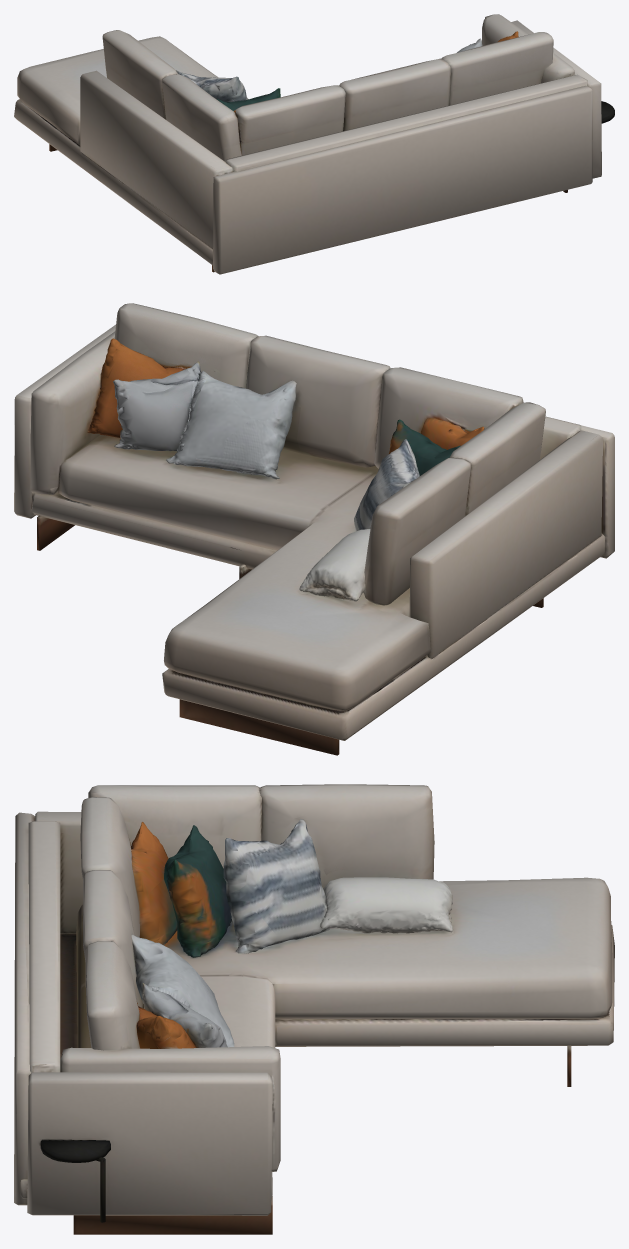
File: sectional+sofa+3d+model.glb
3 views of the same model, one above another, from view 1: azimuth 30°, elevation 25°; view 2: azimuth 150°, elevation 25°; view 3: azimuth 270°, elevation 25° (orthographic). The views are drawn at different scales.
Visible parts, largest first — view 1: tripo_node_becbf8cd-511e-415b-b507-eed06736eb91; view 2: tripo_node_becbf8cd-511e-415b-b507-eed06736eb91; view 3: tripo_node_becbf8cd-511e-415b-b507-eed06736eb91.
Part boxes in pixels (x1,y1,x2,y2): tripo_node_becbf8cd-511e-415b-b507-eed06736eb91: (14,14,614,274); tripo_node_becbf8cd-511e-415b-b507-eed06736eb91: (14,303,614,755); tripo_node_becbf8cd-511e-415b-b507-eed06736eb91: (14,784,614,1234).
Bounding box in the file's own units: 0.998 × 0.3652 × 0.8848.
Materials: 1 (1 with a texture image).
